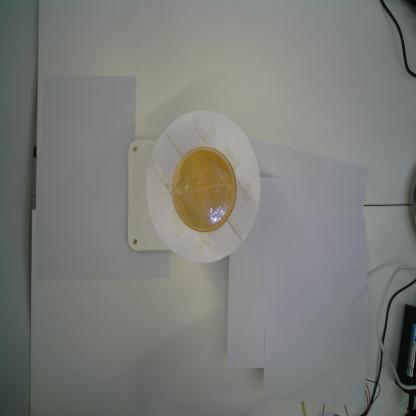Instant Drink: (171, 146, 237, 233)
